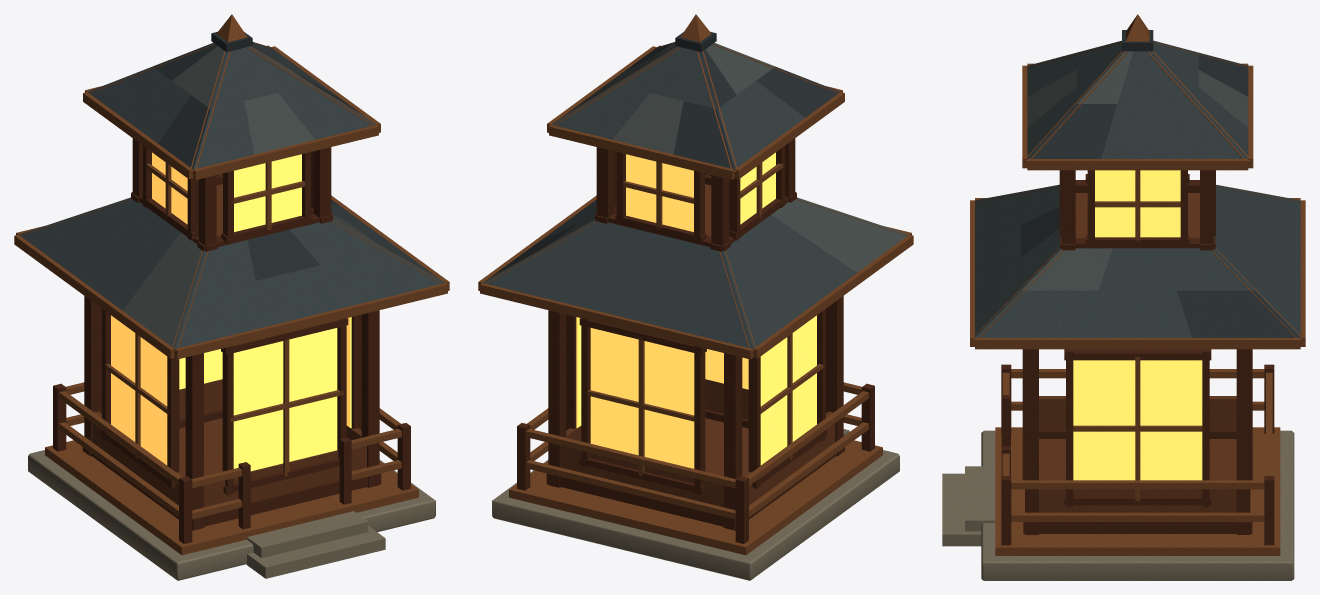
The model's file is lantern_tower.glb.
3 renders of one model, left to right at view 1: azimuth 30°, elevation 25°; view 2: azimuth 150°, elevation 25°; view 3: azimuth 270°, elevation 25°, orthographic. The views are drawn at different scales.
Visible parts, largest first — view 1: Lantern_LowerChamber, Lantern_LowerRoof, Lantern_UpperRoof, Lantern_Base, Lantern_UpperChamber, Lantern_Railing; view 2: Lantern_LowerChamber, Lantern_LowerRoof, Lantern_UpperRoof, Lantern_Base, Lantern_UpperChamber, Lantern_Railing; view 3: Lantern_LowerRoof, Lantern_LowerChamber, Lantern_UpperRoof, Lantern_Base, Lantern_UpperChamber, Lantern_Railing, Lantern_Finial.
Boxes of the visible parts, box(x1,y1,x2,y2) form: Lantern_LowerChamber: box(82, 296, 381, 530); Lantern_LowerRoof: box(14, 195, 449, 359); Lantern_UpperRoof: box(83, 42, 380, 179); Lantern_Base: box(28, 440, 435, 580); Lantern_UpperChamber: box(131, 138, 332, 251); Lantern_Railing: box(53, 382, 410, 543); Lantern_LowerChamber: box(546, 296, 845, 530); Lantern_LowerRoof: box(478, 195, 913, 359); Lantern_UpperRoof: box(547, 42, 844, 179); Lantern_Base: box(492, 429, 899, 580); Lantern_UpperChamber: box(595, 138, 796, 251); Lantern_Railing: box(517, 382, 874, 543); Lantern_LowerRoof: box(970, 184, 1305, 349); Lantern_LowerChamber: box(1022, 349, 1252, 534); Lantern_UpperRoof: box(1022, 40, 1253, 170); Lantern_Base: box(942, 427, 1294, 580); Lantern_UpperChamber: box(1059, 170, 1215, 250); Lantern_Railing: box(1001, 364, 1274, 545); Lantern_Finial: box(1126, 14, 1149, 41).
Bounding box in the file's own units: 3.65 × 6.02 × 3.95.
Materials: 8 (8 with a texture image).
